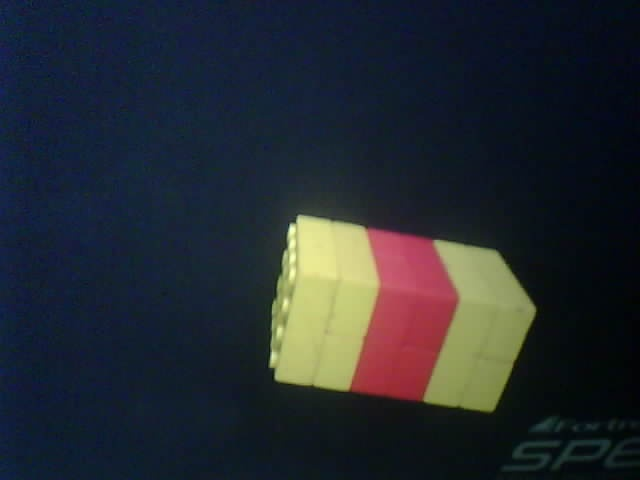lego: (267, 212, 537, 415)
